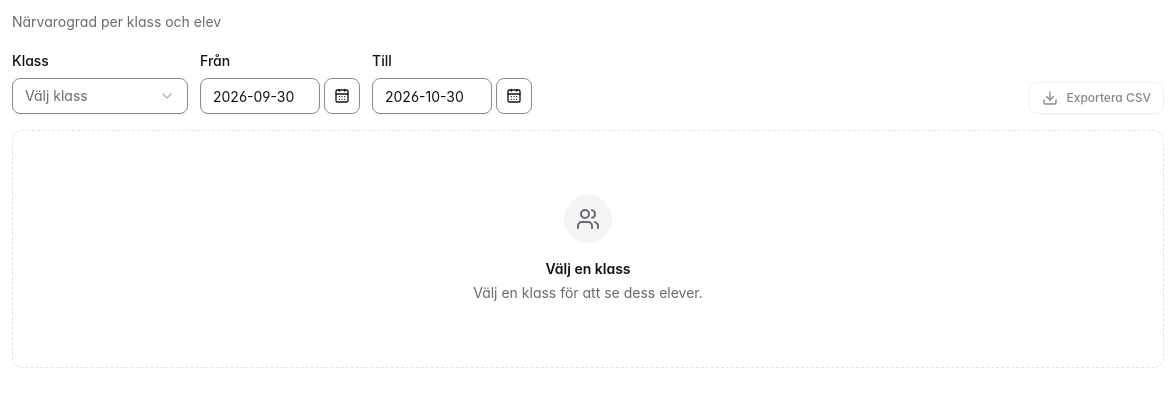
Rapporter › Närvaro › says why a period cannot be shown before asking, rather than failing it as a load error
The width and height of the screenshot is (1176, 417).
Click the dropdown labelled "klass". click: click(100, 96)
box: x1=12 y1=78 x2=188 y2=114
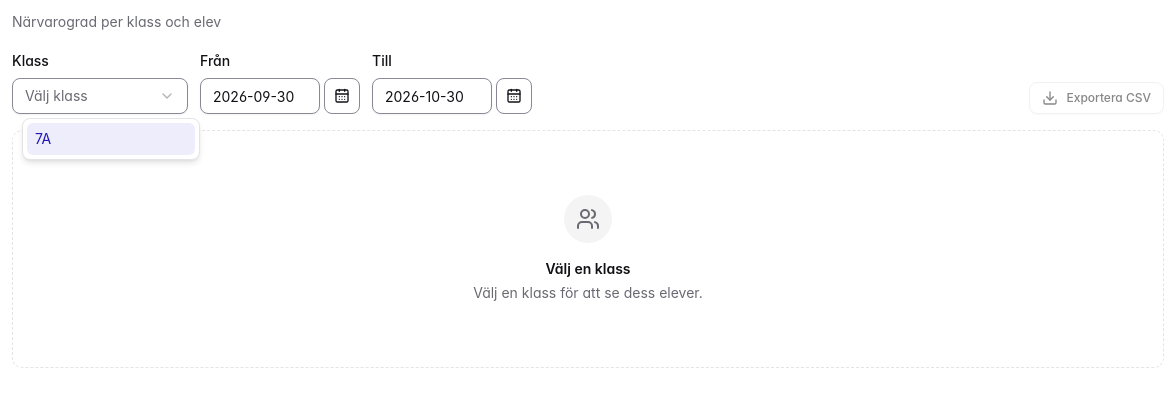
Click the option "7A". click: click(111, 139)
box: x1=27 y1=123 x2=195 y2=155
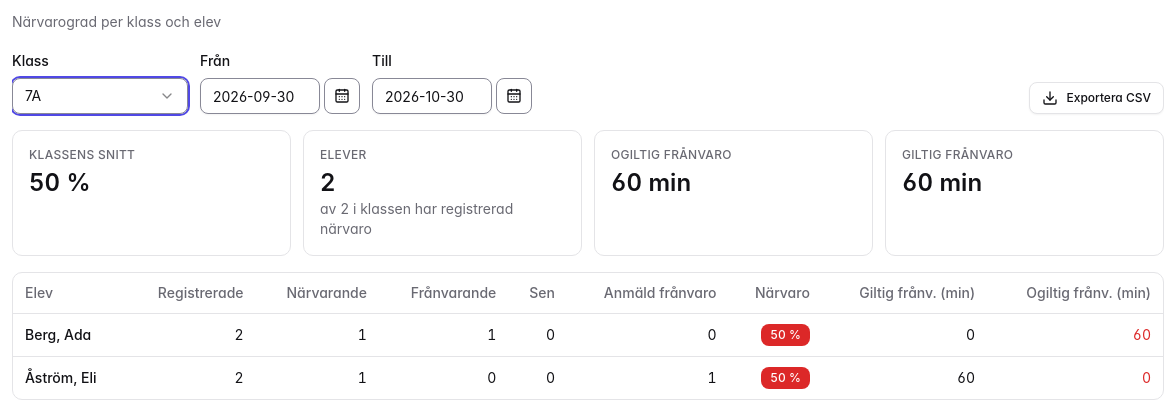
Replace the text in the field labelled "Från" with "2099-01-01". click: (260, 96)
box: x1=200 y1=78 x2=320 y2=114
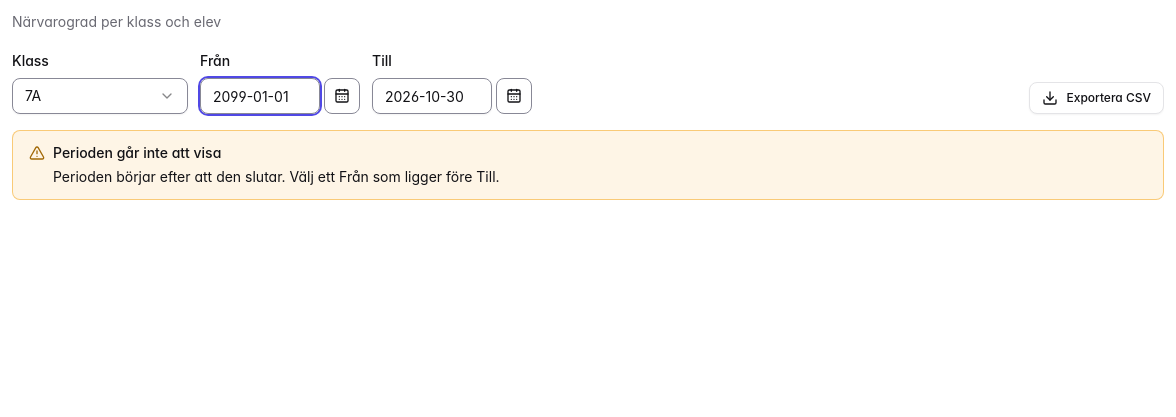
Expected: the text "Perioden börjar efter att den slutar. Välj ett Från som ligger före Till." is shown, x1=53 y1=168 x2=500 y2=185
Expected: the text "Klassens snitt" is gone
Replace the text in the field labelled "Från" with "2020-01-01". click: (260, 96)
box: x1=200 y1=78 x2=320 y2=114
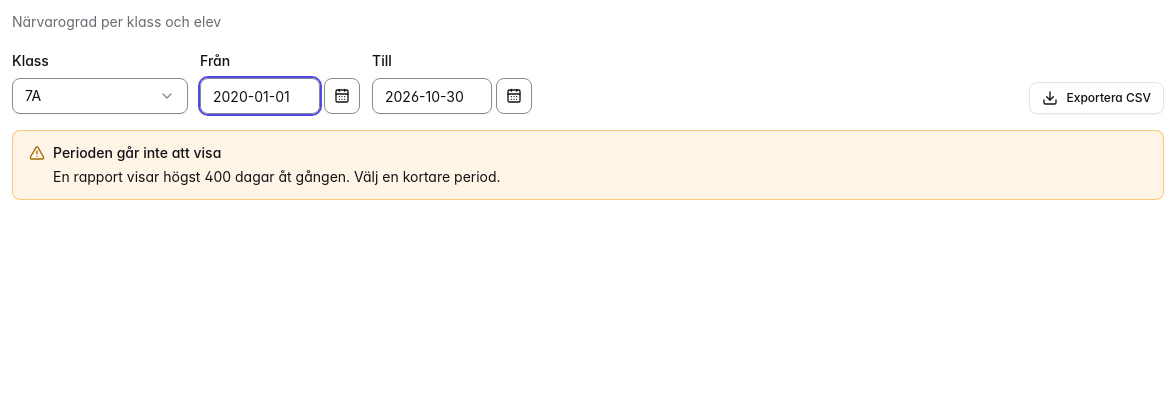
Expected: the text "En rapport visar högst 400 dagar åt gången. Välj en kortare period." is shown, x1=53 y1=168 x2=501 y2=185
